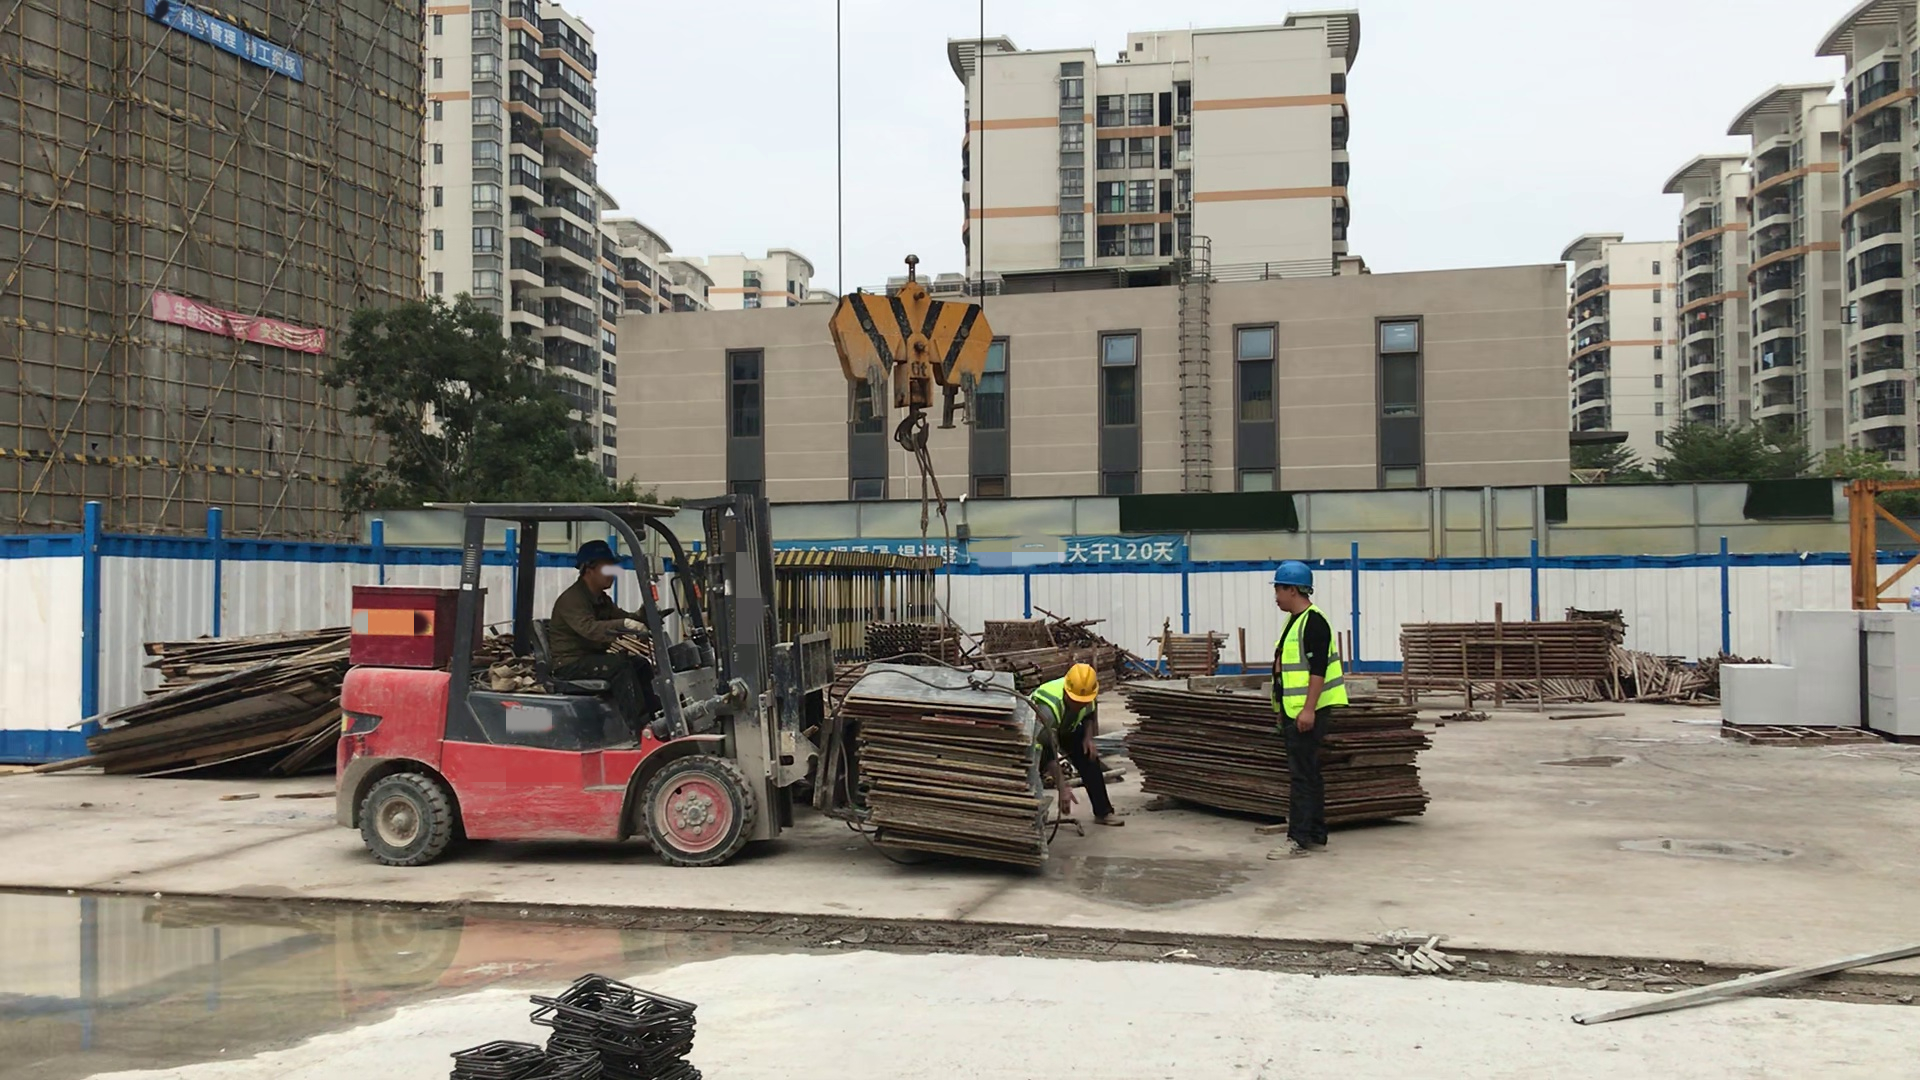board: (840, 658, 1056, 869), (77, 624, 341, 785), (1117, 667, 1270, 841), (1343, 675, 1440, 831)
brick: (1719, 606, 1861, 732), (1864, 605, 1920, 741)
helmet: (1064, 667, 1103, 704), (1277, 563, 1317, 598)
hook: (832, 248, 985, 454)
person: (1271, 557, 1343, 856), (547, 538, 649, 741), (1043, 663, 1126, 835)
scaffold: (1398, 621, 1613, 680), (1151, 630, 1227, 678)
slogan: (154, 285, 326, 363), (162, 1, 300, 83), (952, 534, 1181, 567)
